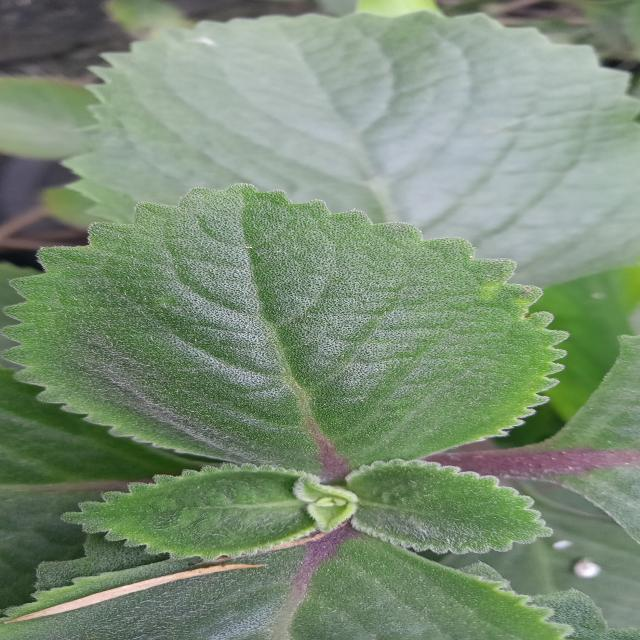Oregano: (11, 191, 636, 612)
